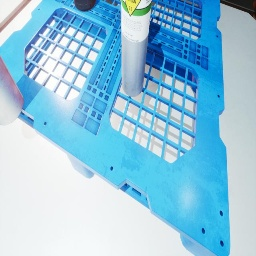0: (121, 0, 152, 97), (0, 54, 24, 126)
NitrogenTank ,: (74, 0, 96, 11)
